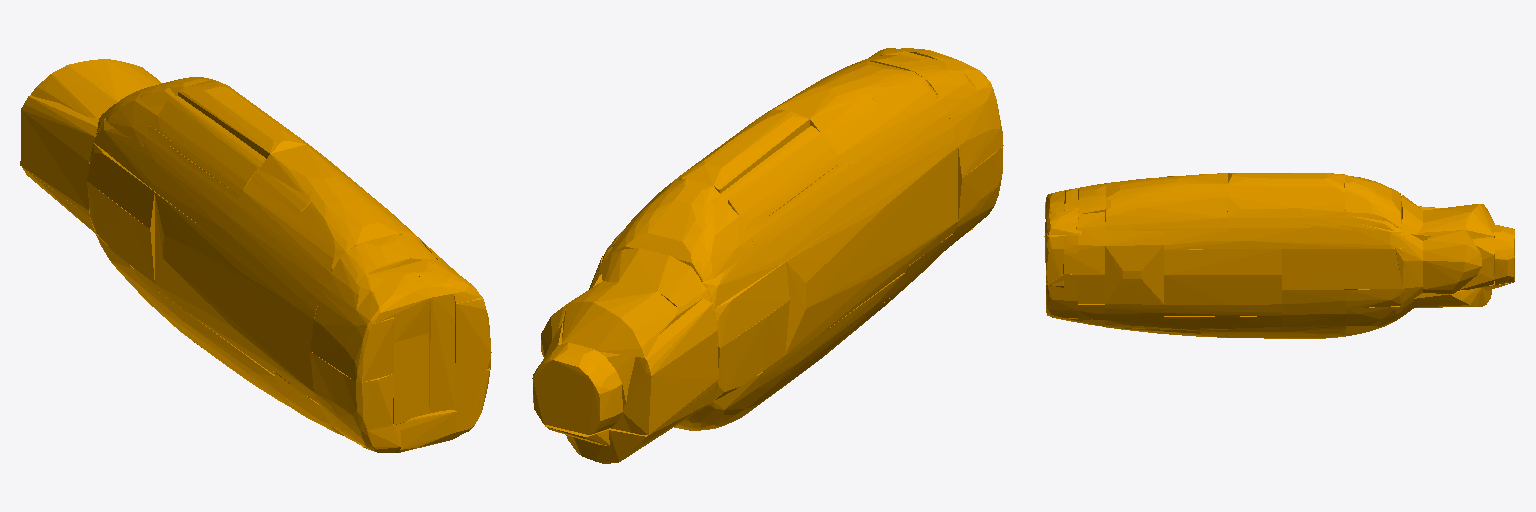
The robot description file, URDF, robot "bottle-soupline":
<?xml version="1.0" ?>
<robot name="bottle-soupline">
  <link name="baseLink">
    <contact>
      <lateral_friction value="1.0"/>
      <inertia_scaling value="3.0"/>
    </contact>
    <inertial>
      <origin rpy="0 0 0" xyz="0.000 0.000 0.000"/>
       <mass value=".1"/>
       <inertia ixx="1" ixy="0.0" ixz="0.0" iyy="1" iyz="0.0" izz="1"/>
    </inertial>
    <visual>
      <origin rpy="0 0 0" xyz="0 0 0"/>
      <geometry>
        <mesh filename="bottle/bottle-soupline.obj" scale="1.0 1.0 1.0"/>
      </geometry>
    </visual>
    <collision>
      <origin rpy="0 0 0" xyz="0 0 0"/>
      <geometry>
        <mesh filename="../collision/bottle/bottle-soupline.obj" scale="1.0 1.0 1.0"/>
      </geometry>
    </collision>
  </link>
</robot>
        

--- What the picture shows (computed from the rendered views, not written in the file) ---
Views: 3 orthographic renders of the robot side by side, from view 1: azimuth 30°, elevation 25°; view 2: azimuth 150°, elevation 25°; view 3: azimuth 270°, elevation 25°.
Model bottle-soupline with 1 links and 0 joints (none), rooted at baseLink, posed every joint at zero.
Visible links, largest first — view 1: baseLink; view 2: baseLink; view 3: baseLink.
Boxes of the visible links, left/top/right/bottom form: baseLink: left=20, top=59, right=491, bottom=452; baseLink: left=532, top=48, right=1003, bottom=463; baseLink: left=1044, top=173, right=1514, bottom=338.
Size in the robot's own frame: 0.0609 by 0.2698 by 0.1025 metres.
Meshes: 1 distinct files referenced, 1 mesh visuals loaded (1 OBJ).